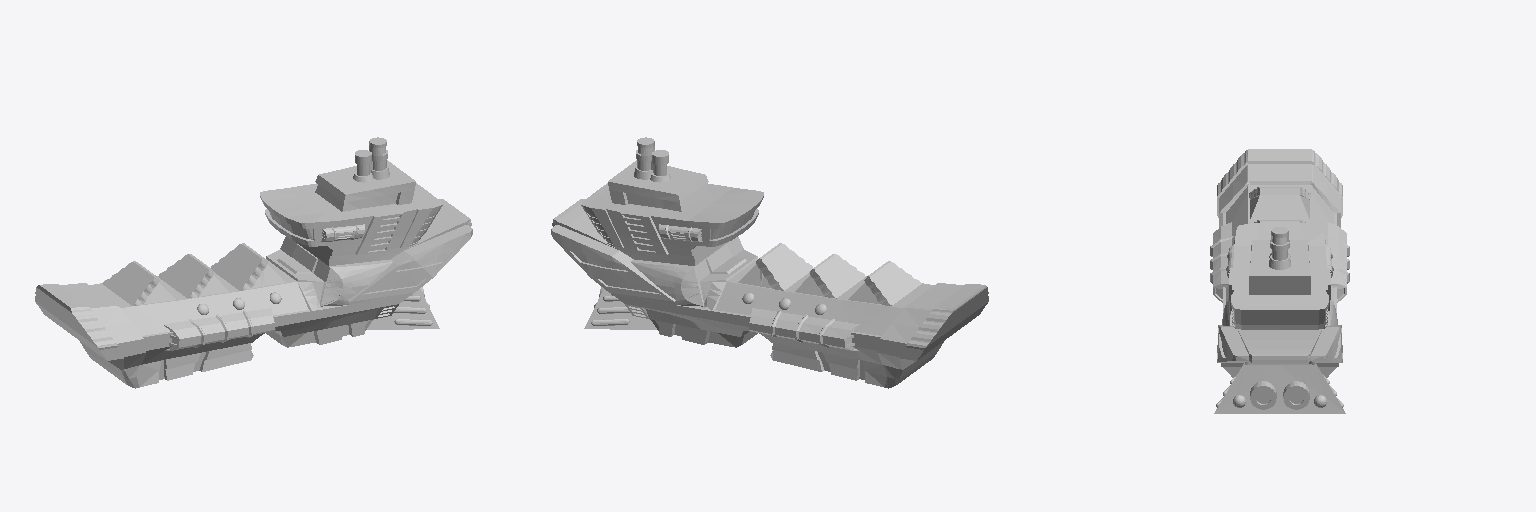
The model's file is miniature_fresh_ship.obj.
3 views of the same model, side by side, from view 1: azimuth 30°, elevation 25°; view 2: azimuth 150°, elevation 25°; view 3: azimuth 270°, elevation 25° (orthographic).
Parts seen in each view (by area): view 1: miniatures_ship_fresh; view 2: miniatures_ship_fresh; view 3: miniatures_ship_fresh.
Boxes of the visible parts, x1,y1,x2,y2 form: miniatures_ship_fresh: [35, 137, 472, 388]; miniatures_ship_fresh: [551, 137, 988, 388]; miniatures_ship_fresh: [1210, 149, 1349, 413].
Size of the model in its own units: 0.8534 by 0.3439 by 0.2549.